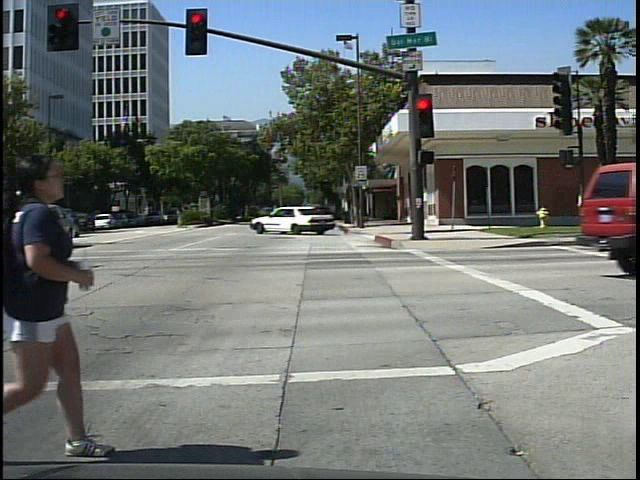person: (2, 140, 121, 466)
